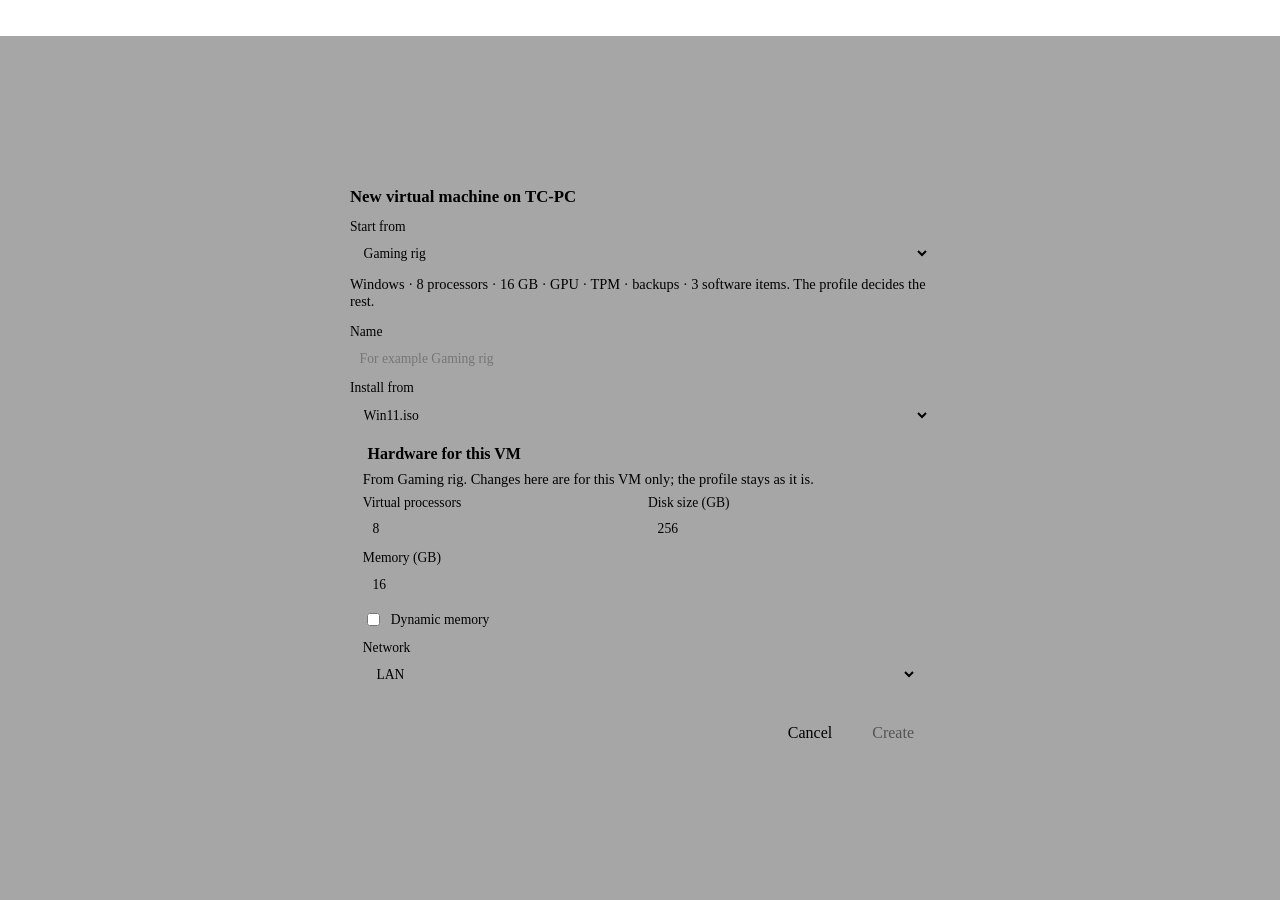
CreateVmFromProfileDialog as New VM (API 1.32.0) › starts from the first profile with its hardware, and sends only what changed
Expected: the number field labelled "Virtual processors" holds "8", [363,514,632,544]
Expected: the number field labelled "Disk size (GB)" holds "256", [648,514,917,544]
In the field labelled "Name": (640, 359) [350,343,930,374], type "Rig 2"
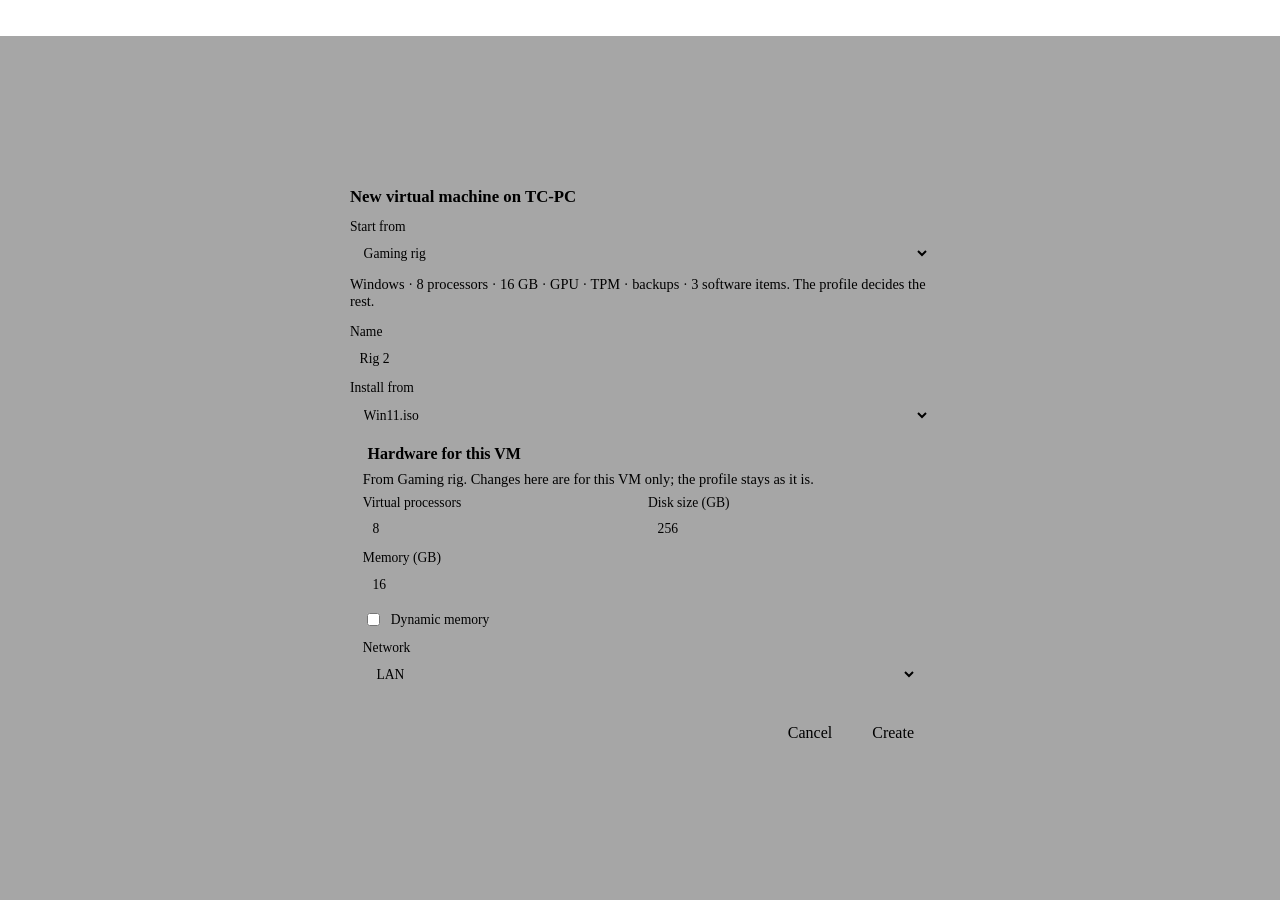
Replace the text in the number field labelled "Virtual processors" with "4": (497, 529) [363,514,632,544]
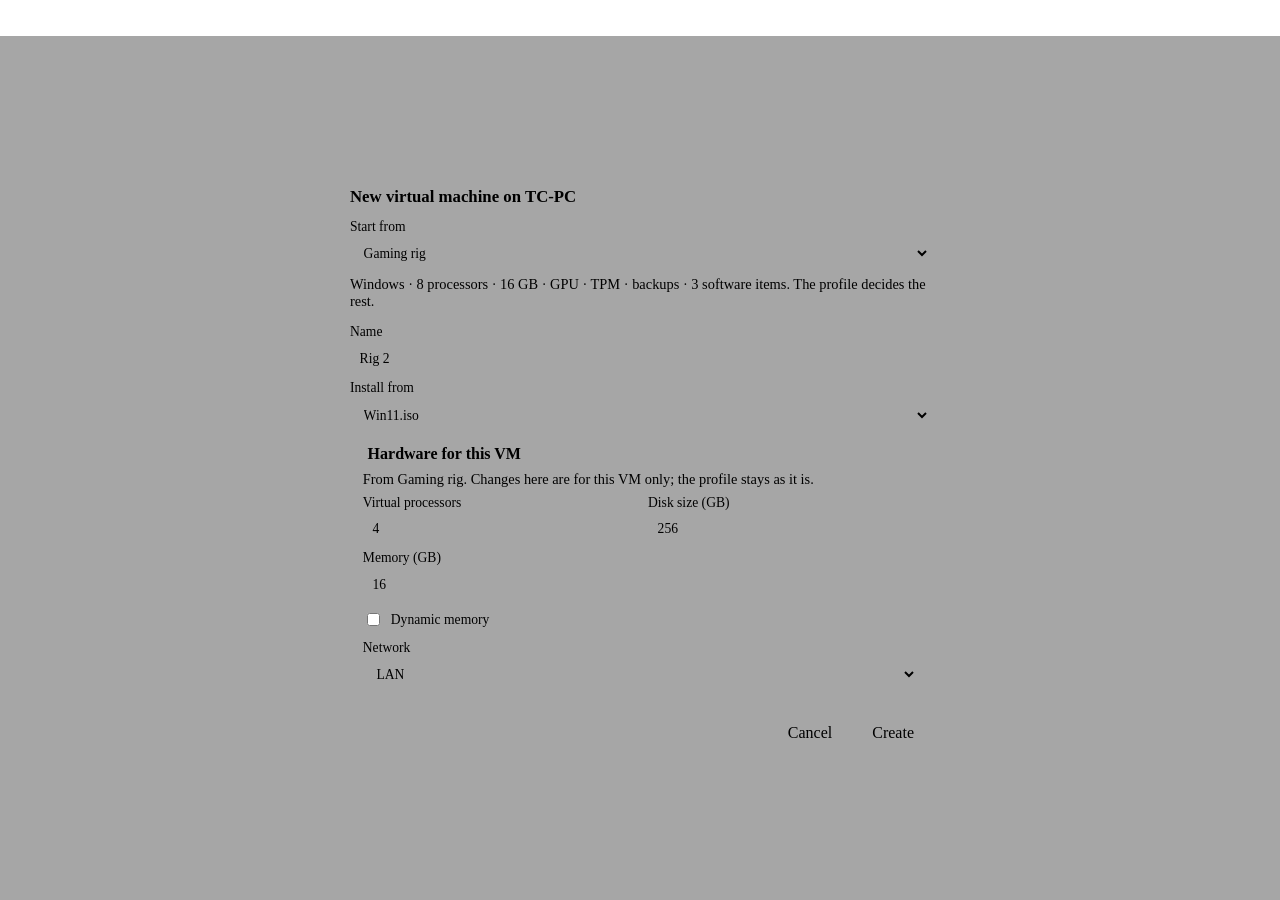
Click the button "Create": (893, 733) [856,717,930,749]
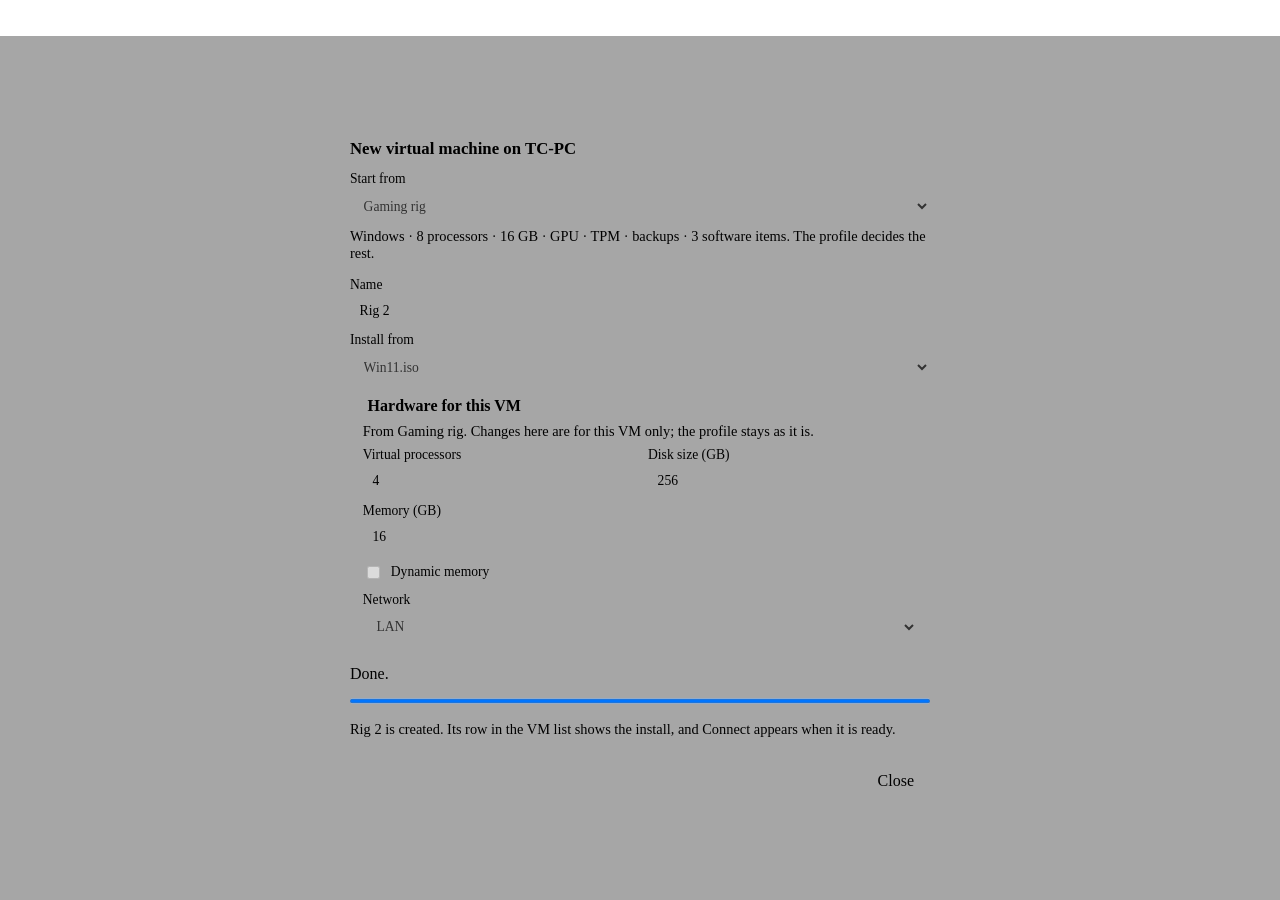
Result: the text "Rig 2 is created" is shown at [350,721,896,737]
